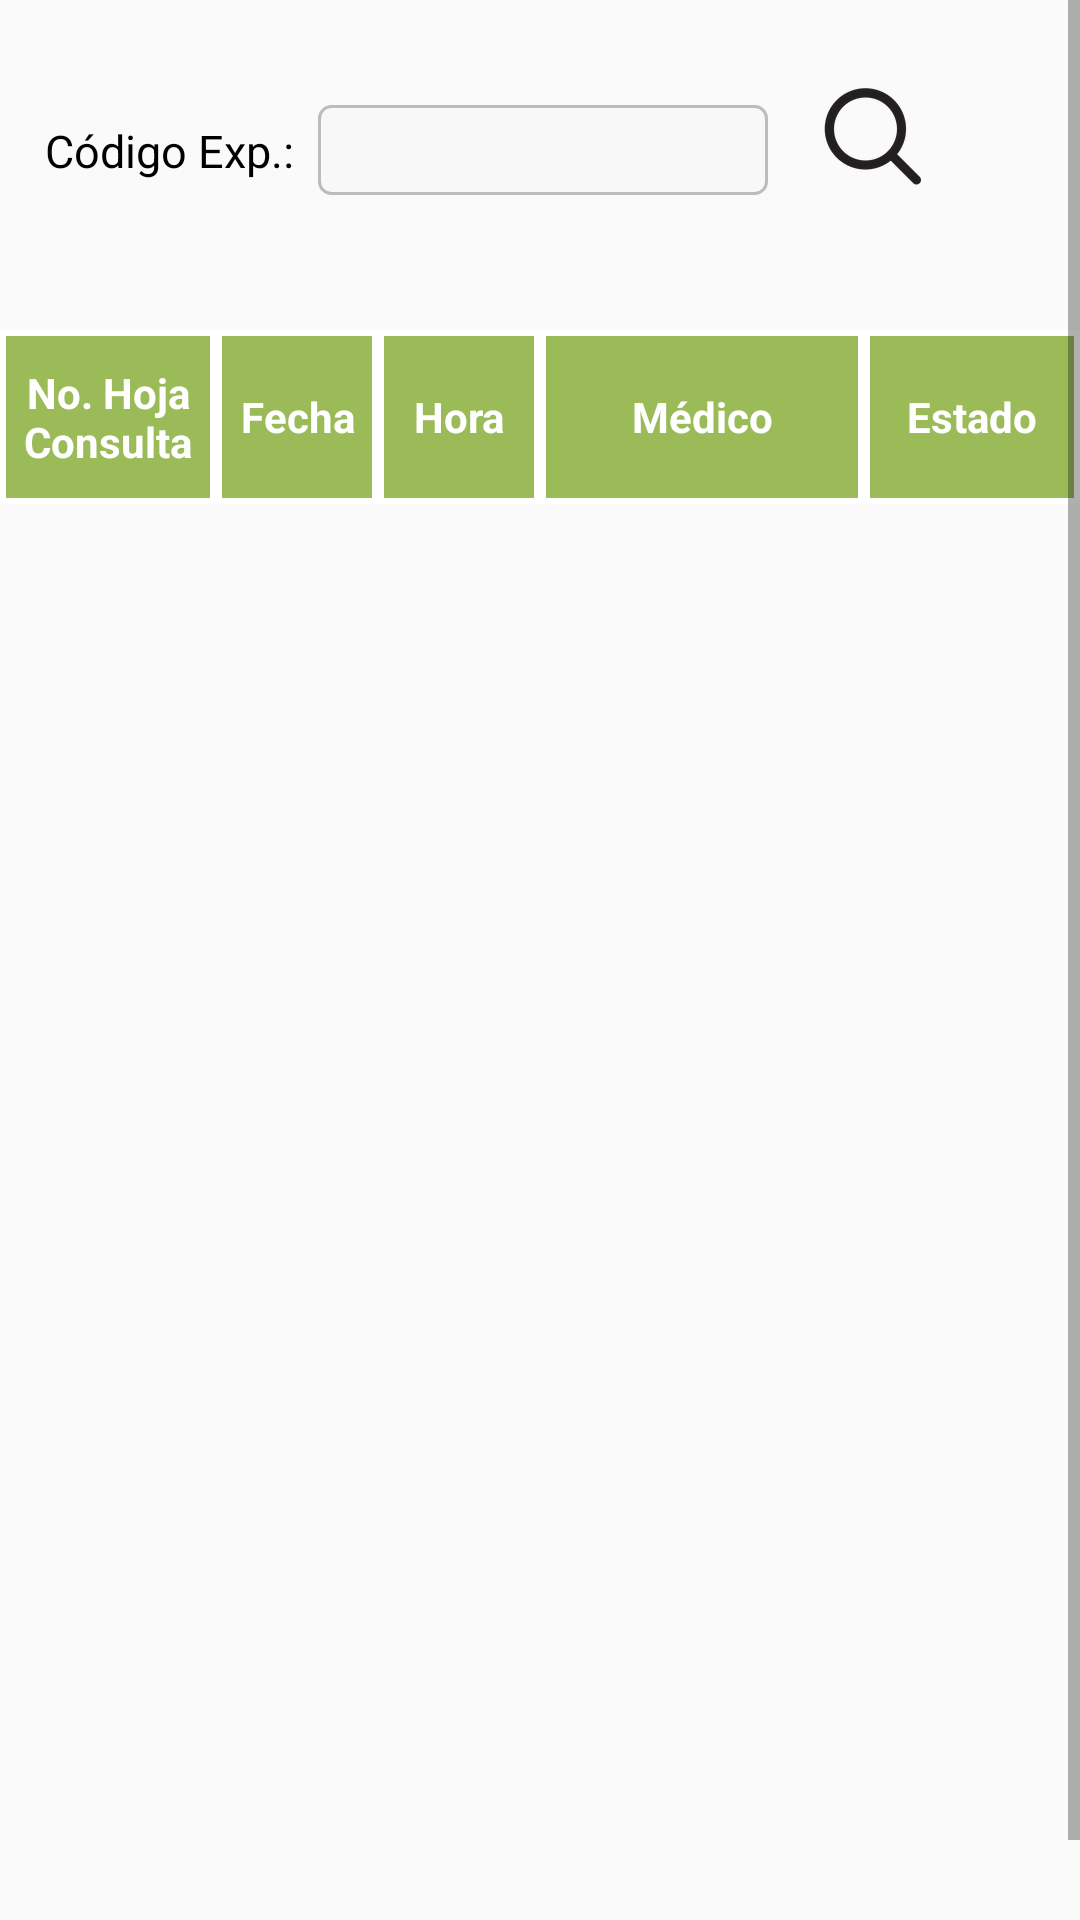

Named icons in this screenshot (1080px×1920px) and their bounding boxes, (x1, y1, x2, y2):
search: (824, 88, 921, 185)
